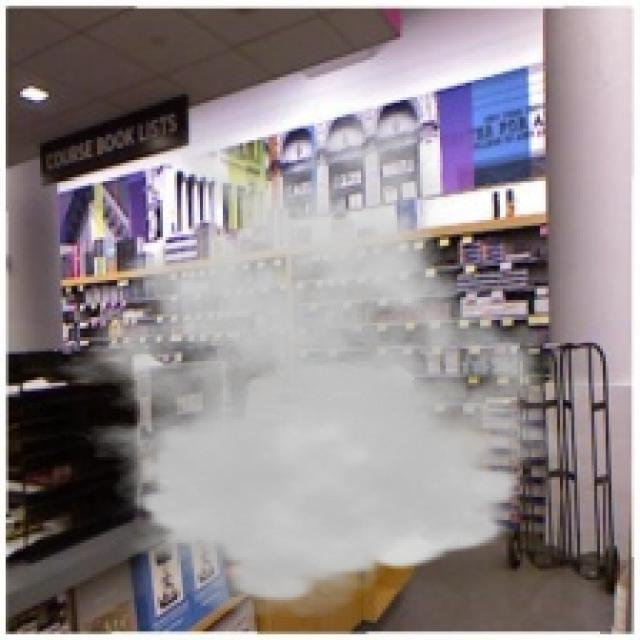smoke: (32, 103, 574, 620)
